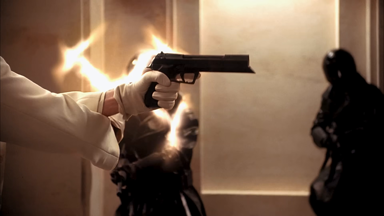firearm: (142, 49, 258, 109)
